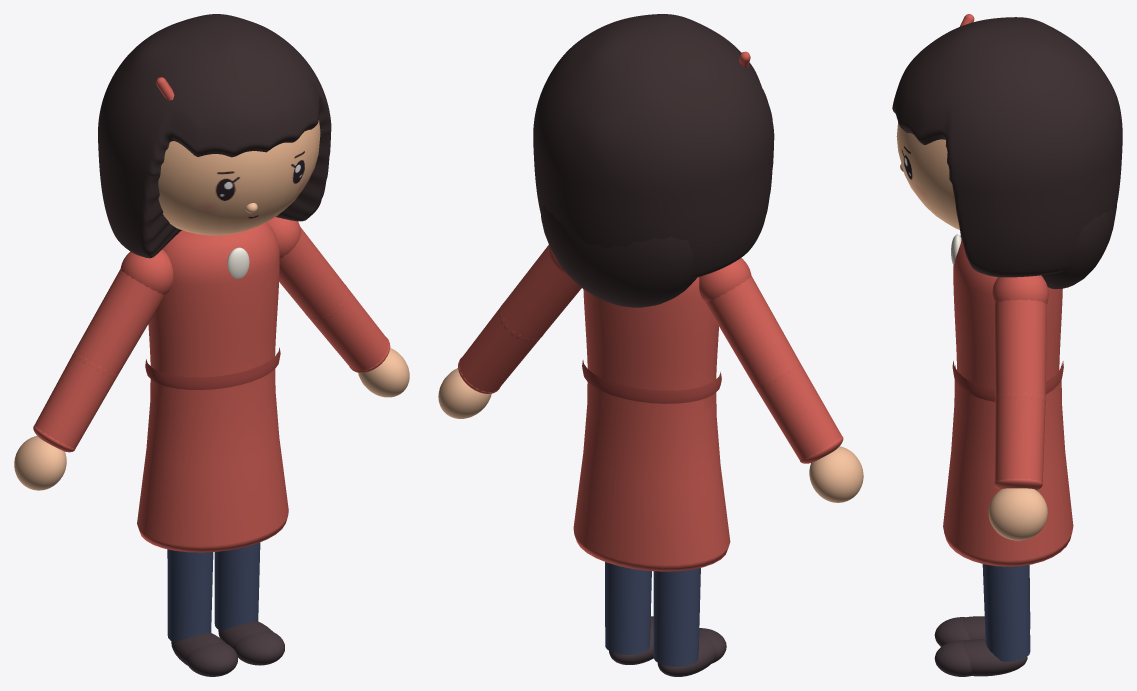
File: mei_young.glb
3 views of the same model, side by side, from view 1: azimuth 30°, elevation 25°; view 2: azimuth 150°, elevation 25°; view 3: azimuth 270°, elevation 25° (orthographic). The views are drawn at different scales.
Parts seen in each view (by area): view 1: hair, pelvis, torso, head, upper_arm_R, upper_arm_L, lower_arm_R, shin_R, shin_L, lower_arm_L, hand_R, shoe_R (+2 smaller); view 2: hair, pelvis, torso, upper_arm_R, lower_arm_R, shin_R, upper_arm_L, shin_L, lower_arm_L, hand_R, hand_L, shoe_R; view 3: hair, pelvis, torso, upper_arm_L, lower_arm_L, shin_L, head, hand_L, shoe_L, shoe_R.
Part boxes in pixels (<box>): hair: <box>98,14,331,258</box>; pelvis: <box>137,354,288,552</box>; torso: <box>145,222,280,394</box>; head: <box>158,120,320,235</box>; upper_arm_R: <box>72,249,173,378</box>; upper_arm_L: <box>267,217,348,321</box>; lower_arm_R: <box>33,352,115,452</box>; shin_R: <box>167,549,213,642</box>; shin_L: <box>214,542,260,631</box>; lower_arm_L: <box>309,287,390,372</box>; hand_R: <box>14,436,66,490</box>; shoe_R: <box>171,632,237,676</box>; hair: <box>533,14,774,307</box>; pelvis: <box>573,367,730,571</box>; torso: <box>582,277,721,408</box>; upper_arm_R: <box>699,258,800,389</box>; lower_arm_R: <box>756,361,843,463</box>; shin_R: <box>653,568,700,666</box>; upper_arm_L: <box>499,245,581,342</box>; shin_L: <box>605,562,651,654</box>; lower_arm_L: <box>458,307,539,393</box>; hand_R: <box>809,446,863,502</box>; hand_L: <box>438,368,491,418</box>; shoe_R: <box>657,628,726,676</box>; hair: <box>892,14,1122,289</box>; pelvis: <box>943,364,1073,566</box>; torso: <box>951,234,1063,403</box>; upper_arm_L: <box>992,275,1048,402</box>; lower_arm_L: <box>994,395,1045,490</box>; shin_L: <box>982,564,1030,661</box>; head: <box>896,122,959,229</box>; hand_L: <box>988,488,1047,540</box>; shoe_L: <box>934,639,1027,676</box>; shoe_R: <box>934,616,985,646</box>.
Size of the model in its own units: 1.13 by 1.71 by 0.5656.
Materials: 8 (1 with a texture image).
